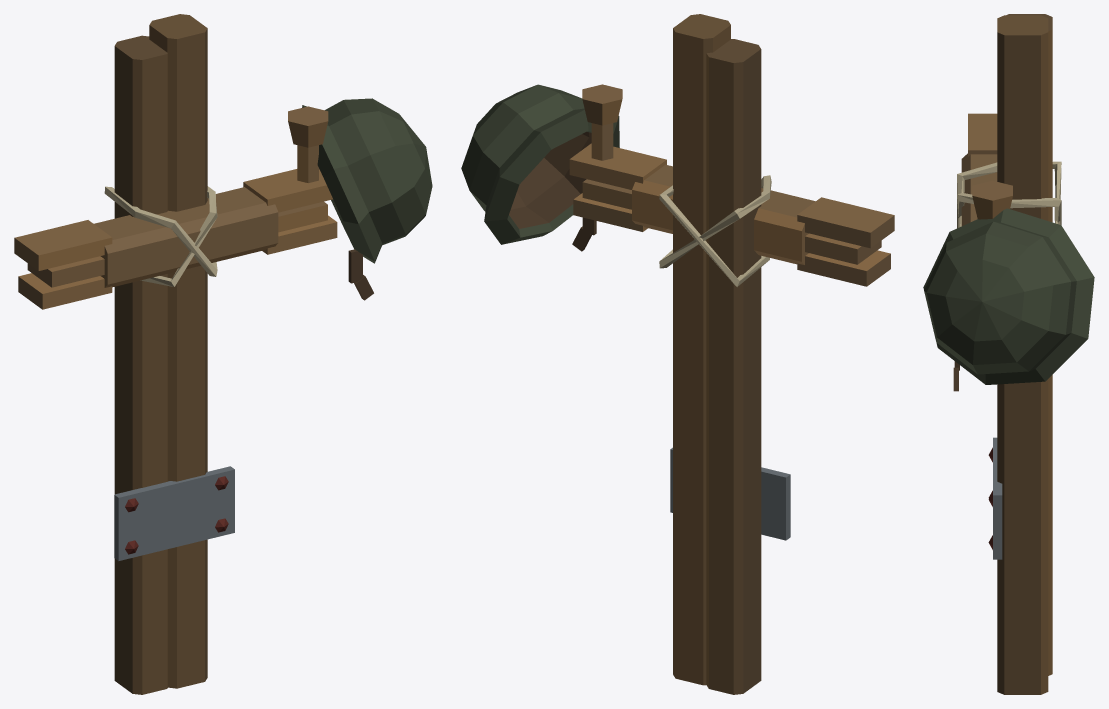
Rendered from field-grave-marker-15380b.glb.
3 renders of one model, left to right at view 1: azimuth 30°, elevation 25°; view 2: azimuth 150°, elevation 25°; view 3: azimuth 270°, elevation 25°, orthographic. The views are drawn at different scales.
Visible parts, largest first — view 1: marker, helmet-shell, strap; view 2: marker, helmet-shell; view 3: marker, helmet-shell.
Boxes of the visible parts, x1=… form: marker: x1=14, y1=14, x2=337, y2=694; helmet-shell: x1=302, y1=98, x2=432, y2=263; strap: x1=348, y1=249, x2=373, y2=300; marker: x1=569, y1=14, x2=894, y2=694; helmet-shell: x1=461, y1=84, x2=619, y2=244; marker: x1=957, y1=14, x2=1061, y2=694; helmet-shell: x1=923, y1=208, x2=1094, y2=384.
Bounding box in the file's own units: 0.519 × 0.8 × 0.1882.
